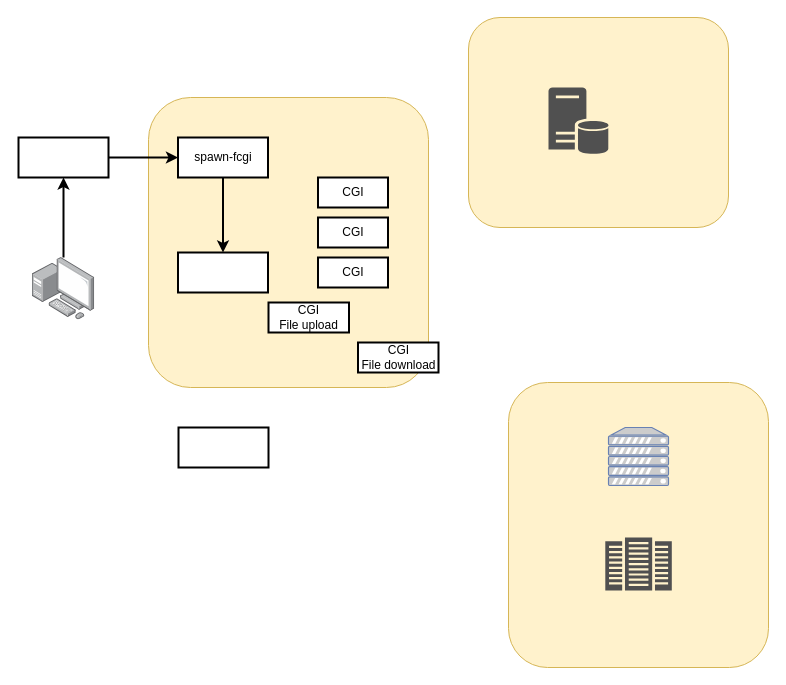
The diagram is 786 pixels wide and 685 high, and some of its shapes have lost their labels. Each missing label, with the box of its shape:
FastCGI: (176, 251, 268, 293)
Nginx: (17, 136, 109, 178)
Redis: (177, 426, 269, 468)
